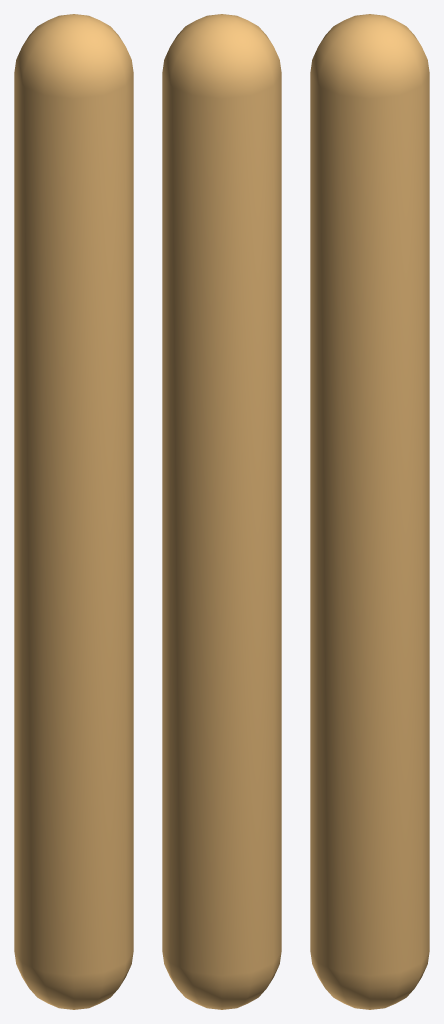
The model's file is forearm.glb.
3 views of the same model, side by side, from view 1: azimuth 30°, elevation 25°; view 2: azimuth 150°, elevation 25°; view 3: azimuth 330°, elevation 25° (orthographic).
Parts seen in each view (by area): view 1: forearm; view 2: forearm; view 3: forearm.
Boxes of the visible parts, box(x1,y1,x2,y2) form: forearm: box(14, 14, 133, 1009); forearm: box(162, 14, 281, 1009); forearm: box(310, 14, 429, 1009).
Bounding box in the file's own units: 0.11 × 1 × 0.11.
